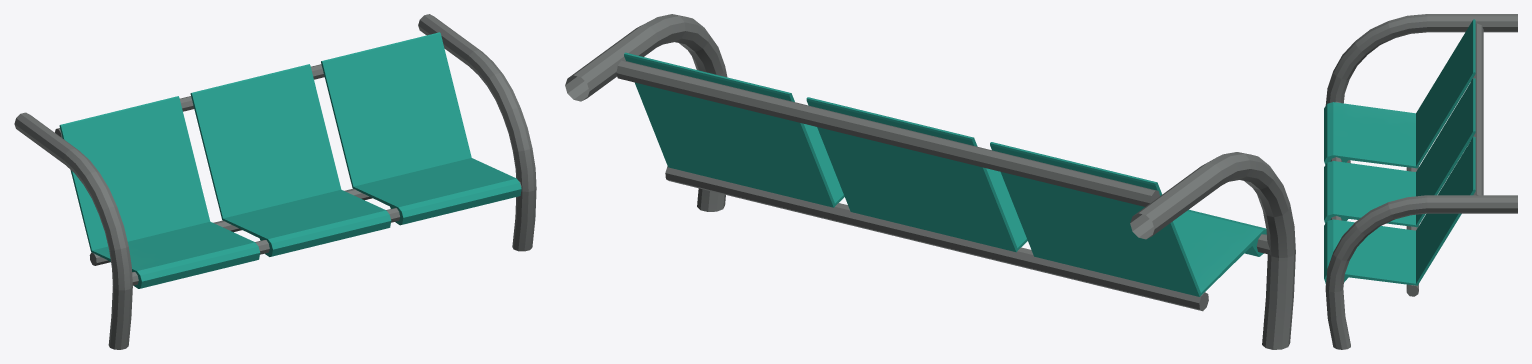
The model's file is tinyBanc.fbx.
3 views of the same model, side by side, from view 1: azimuth 30°, elevation 25°; view 2: azimuth 150°, elevation 25°; view 3: azimuth 270°, elevation 25° (orthographic). The views are drawn at different scales.
Visible parts, largest first — view 1: MSH_TinyBanc; view 2: MSH_TinyBanc; view 3: MSH_TinyBanc.
Part boxes in pixels (x1=…): MSH_TinyBanc: x1=14, y1=14, x2=536, y2=349; MSH_TinyBanc: x1=565, y1=14, x2=1295, y2=349; MSH_TinyBanc: x1=1324, y1=14, x2=1517, y2=349.
Bounding box in the file's own units: 11.81 × 4.42 × 5.12.
